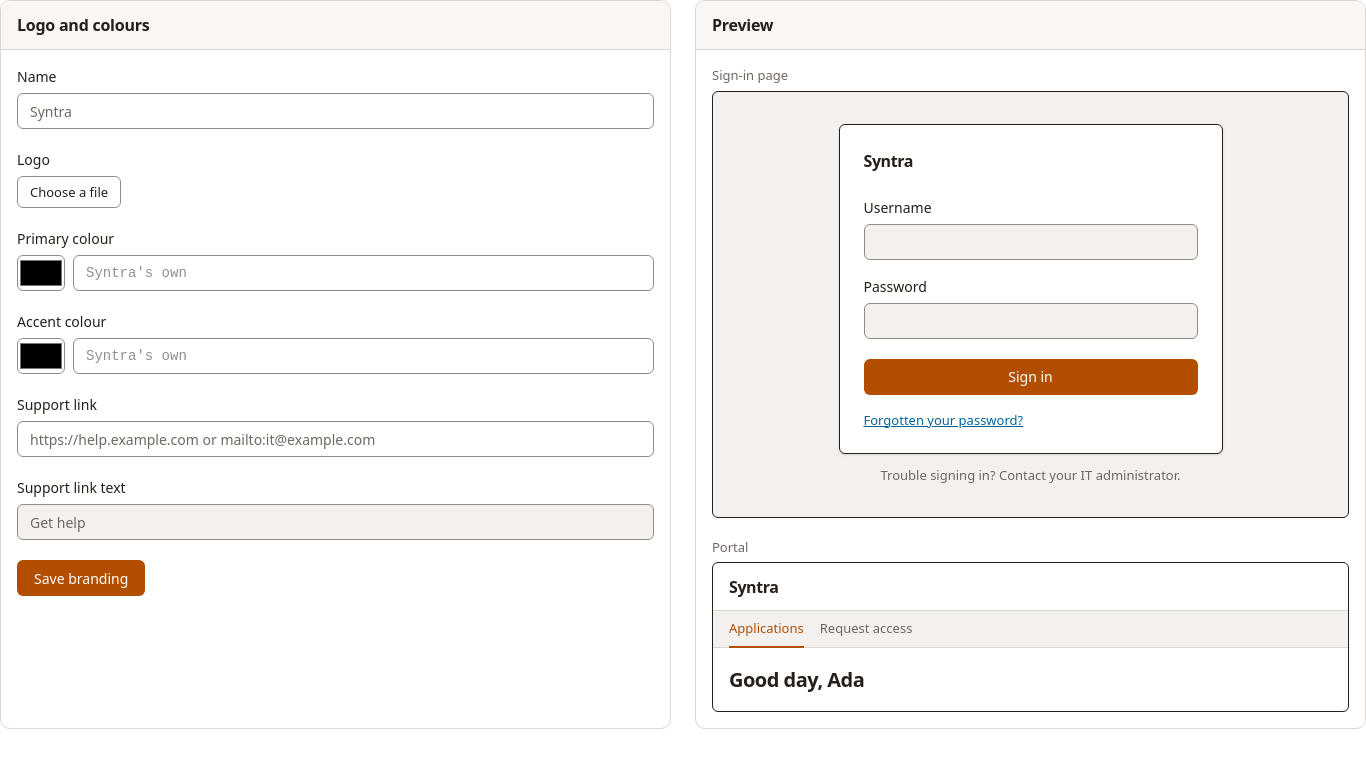
BrandingTab › takes a hex pasted from brand guidelines as well as one picked
Type "#2563eb" into the field labelled "Primary colour".
click(364, 273); type("#2563eb")  # box [73, 255, 654, 291]
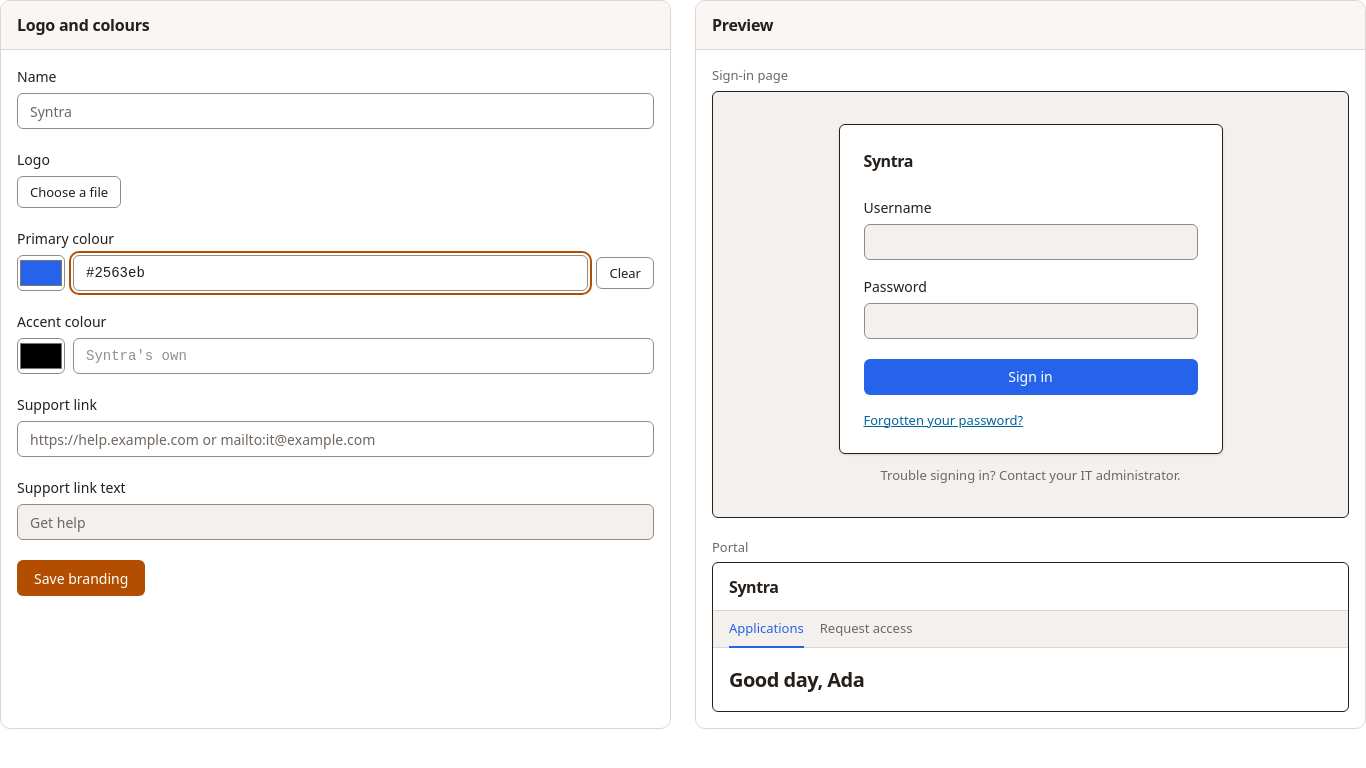
Expected: the colour field named "Primary colour swatch" holds "#2563eb", [17, 255, 65, 291]
